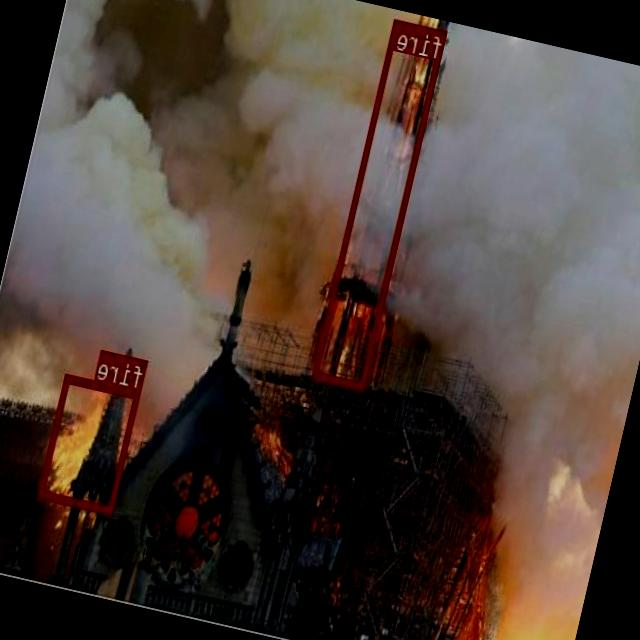fire: (314, 17, 448, 388), (38, 374, 142, 513)
